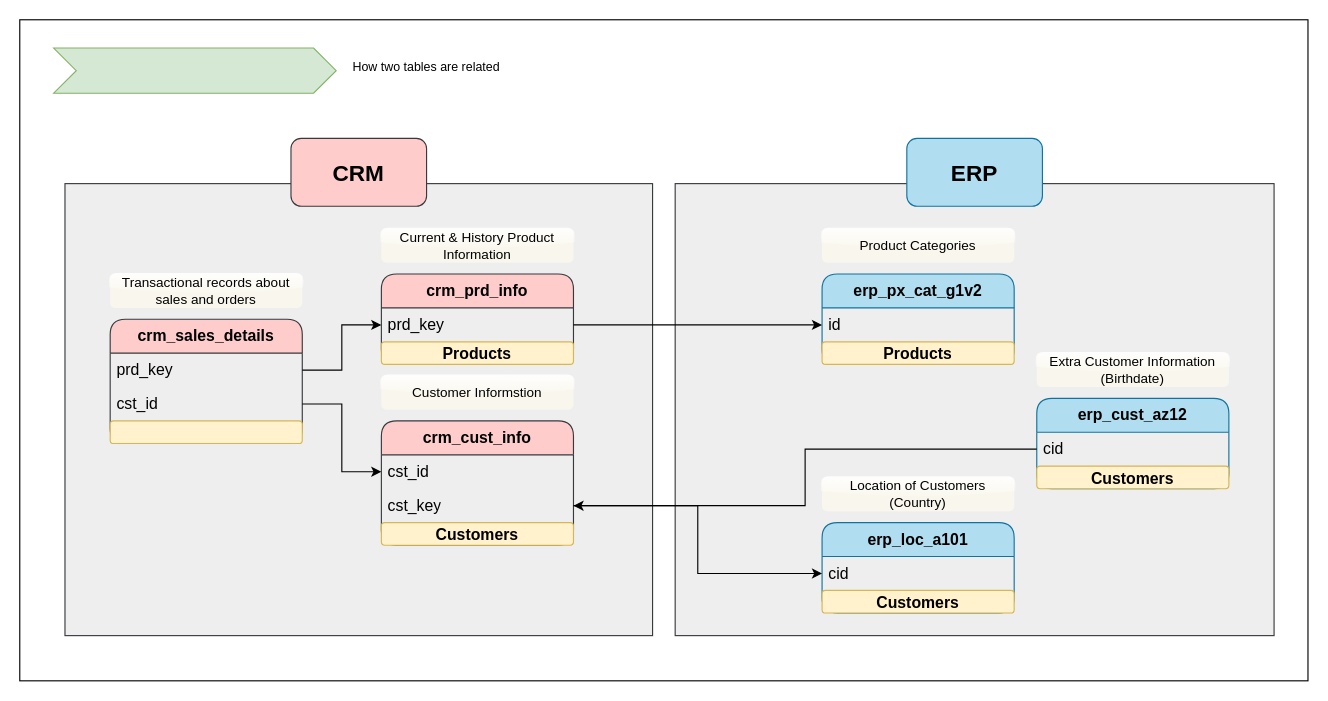
Image size: 1328x701. Some labels were removed from this diagram. Each missing label, with the centre of its shape:
INTEGRATION MODEL: the point at 194,70
Sales: the point at 205,432
